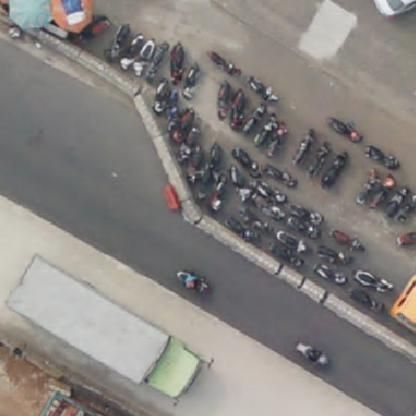car: (370, 0, 415, 28)
motorcycle: (206, 47, 242, 84), (347, 287, 388, 317), (328, 115, 364, 147), (296, 339, 332, 369), (245, 75, 279, 106), (353, 269, 395, 294), (313, 261, 353, 287), (226, 214, 256, 248), (332, 226, 367, 254), (270, 243, 307, 269), (106, 22, 128, 63), (363, 146, 399, 171), (177, 269, 213, 294), (251, 192, 283, 220), (263, 165, 299, 189), (253, 180, 289, 204), (231, 147, 260, 176), (214, 78, 234, 120), (294, 128, 317, 164), (316, 244, 352, 267), (171, 105, 192, 144), (229, 87, 248, 127), (287, 218, 323, 239), (371, 174, 391, 211), (324, 154, 347, 186), (278, 228, 308, 252), (136, 31, 152, 75), (122, 35, 141, 71), (244, 105, 266, 135), (241, 209, 268, 233), (256, 116, 276, 147), (292, 204, 323, 224), (168, 38, 182, 82), (151, 37, 165, 80), (311, 140, 327, 176), (181, 61, 195, 102), (209, 174, 224, 212), (187, 146, 201, 186), (267, 124, 285, 155), (386, 185, 402, 219), (398, 191, 415, 222), (357, 174, 376, 201), (195, 163, 209, 195), (166, 89, 179, 121), (182, 127, 194, 161), (229, 166, 244, 189), (395, 232, 415, 249), (205, 142, 217, 168), (155, 77, 163, 110), (170, 106, 180, 127)
truck: (6, 254, 213, 409)
